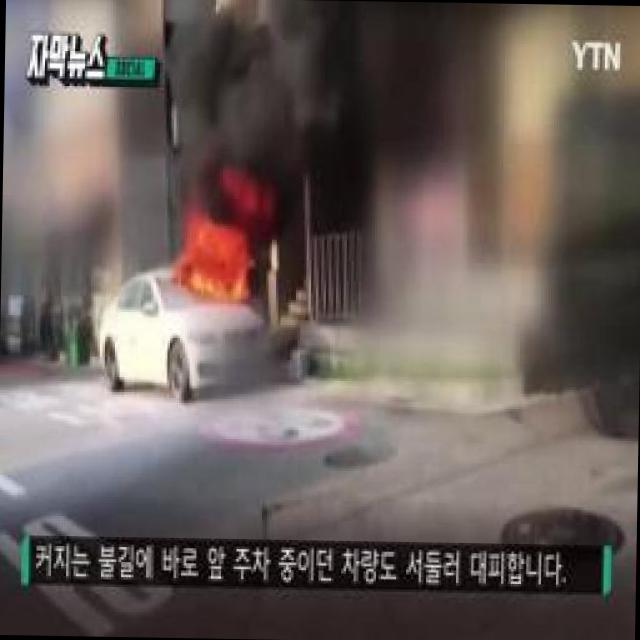Fire: (172, 213, 262, 304)
Smoke: (155, 0, 343, 221)
